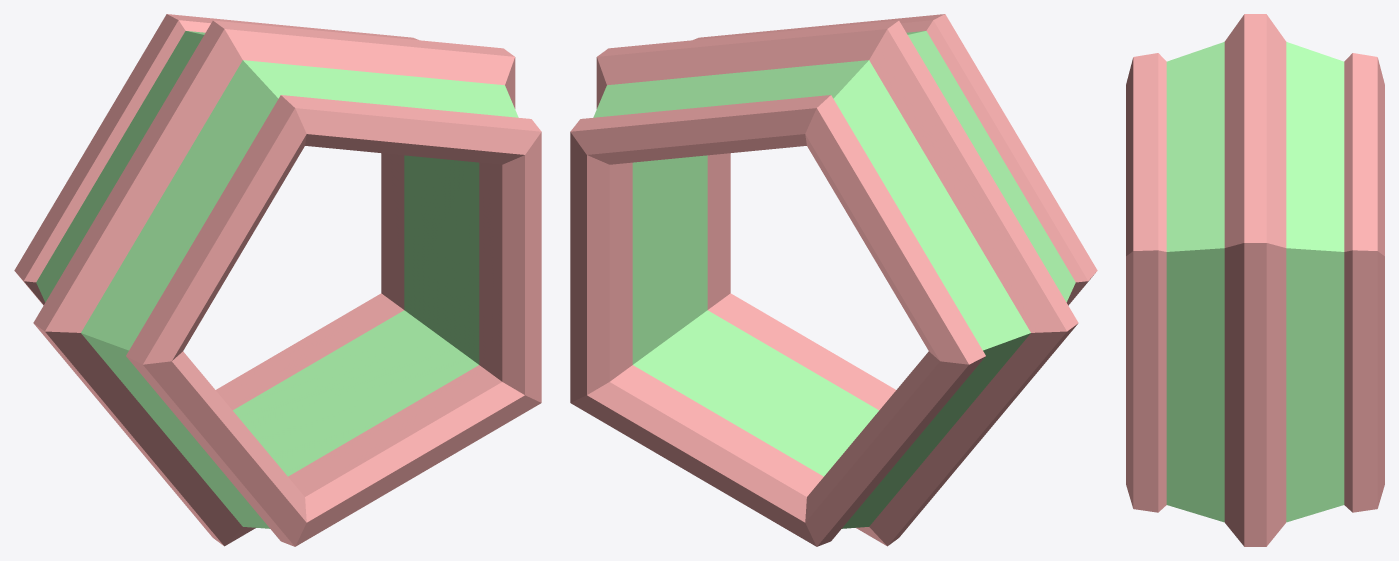
Rendered from data.fbx.
3 views of the same model, side by side, from view 1: azimuth 30°, elevation 25°; view 2: azimuth 150°, elevation 25°; view 3: azimuth 270°, elevation 25° (orthographic). The views are drawn at different scales.
Parts seen in each view (by area): view 1: cylinder2; view 2: cylinder2; view 3: cylinder2.
Part boxes in pixels (bbox=[...]): cylinder2: bbox=[14, 14, 541, 546]; cylinder2: bbox=[570, 14, 1097, 546]; cylinder2: bbox=[1126, 14, 1384, 546].
Bounding box in the file's own units: 9.22 × 9.69 × 4.62.
